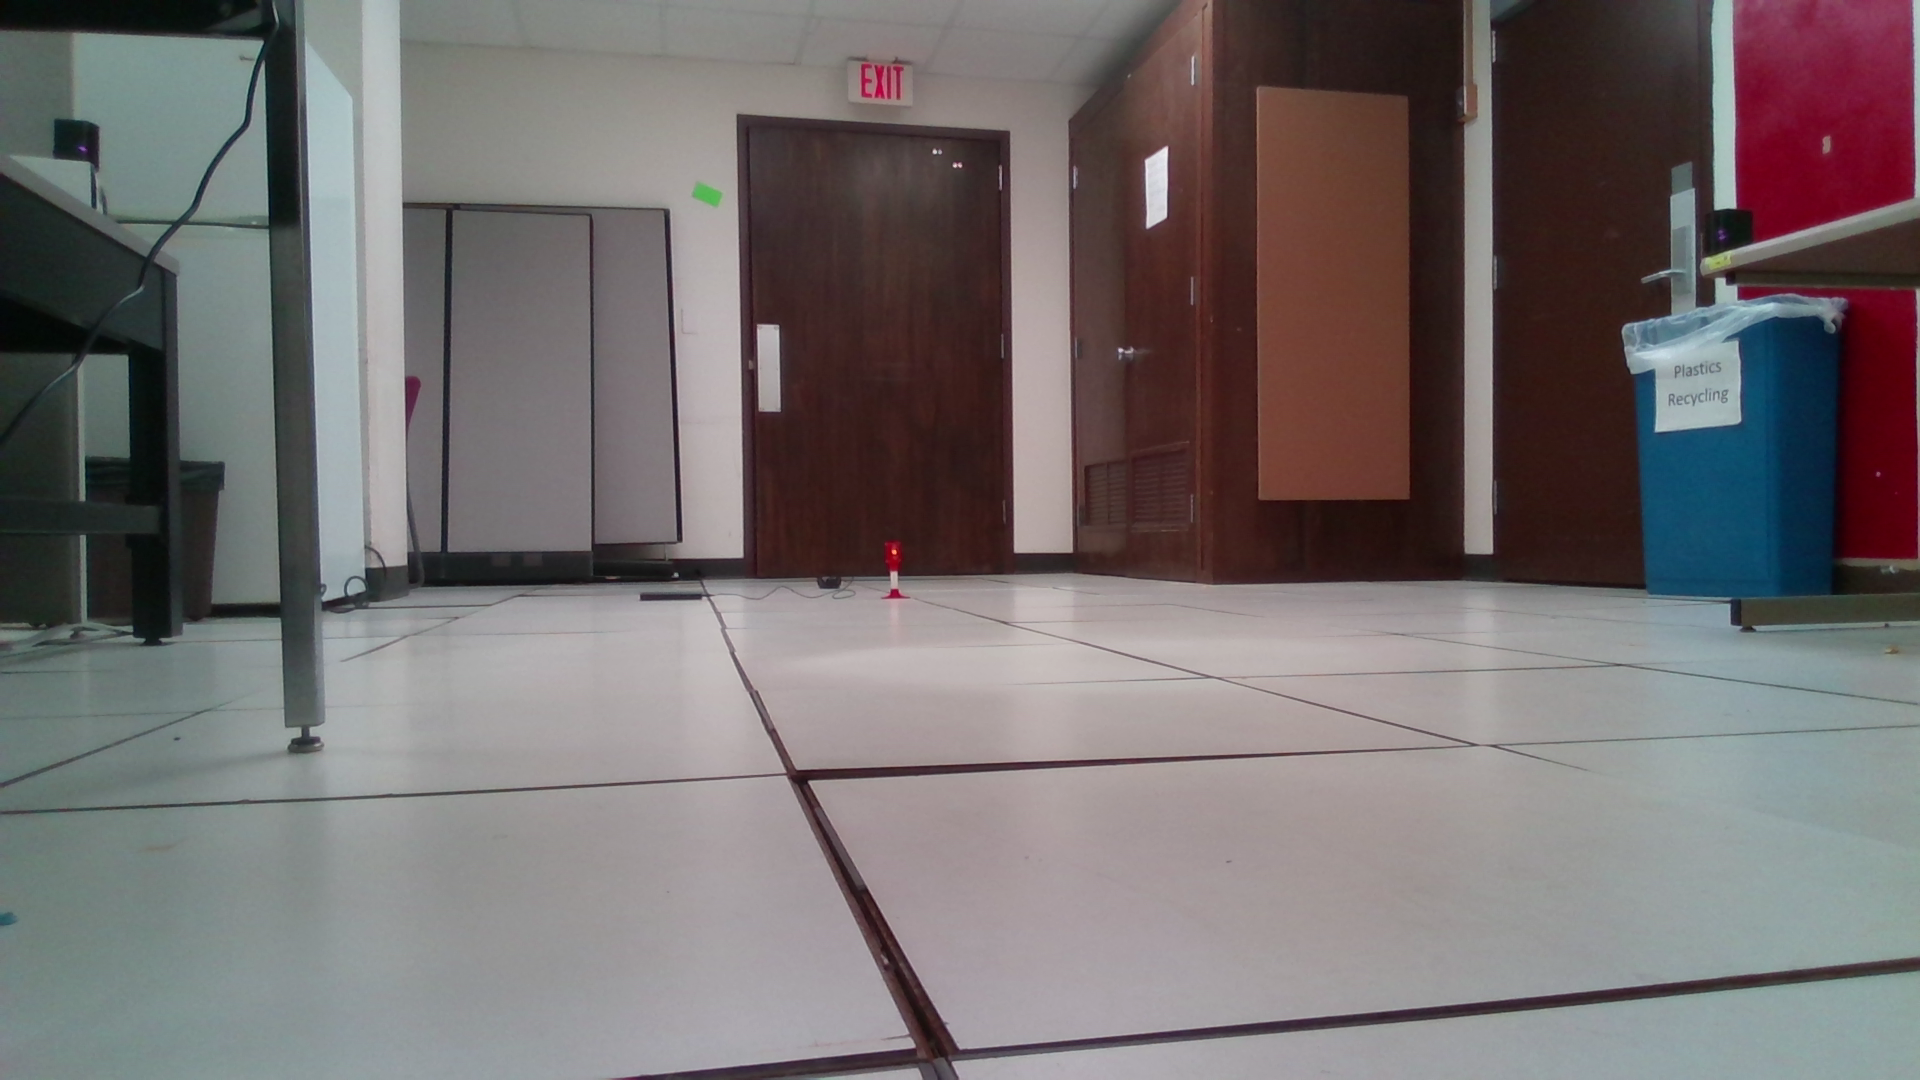stoplight: (885, 539, 905, 568)
